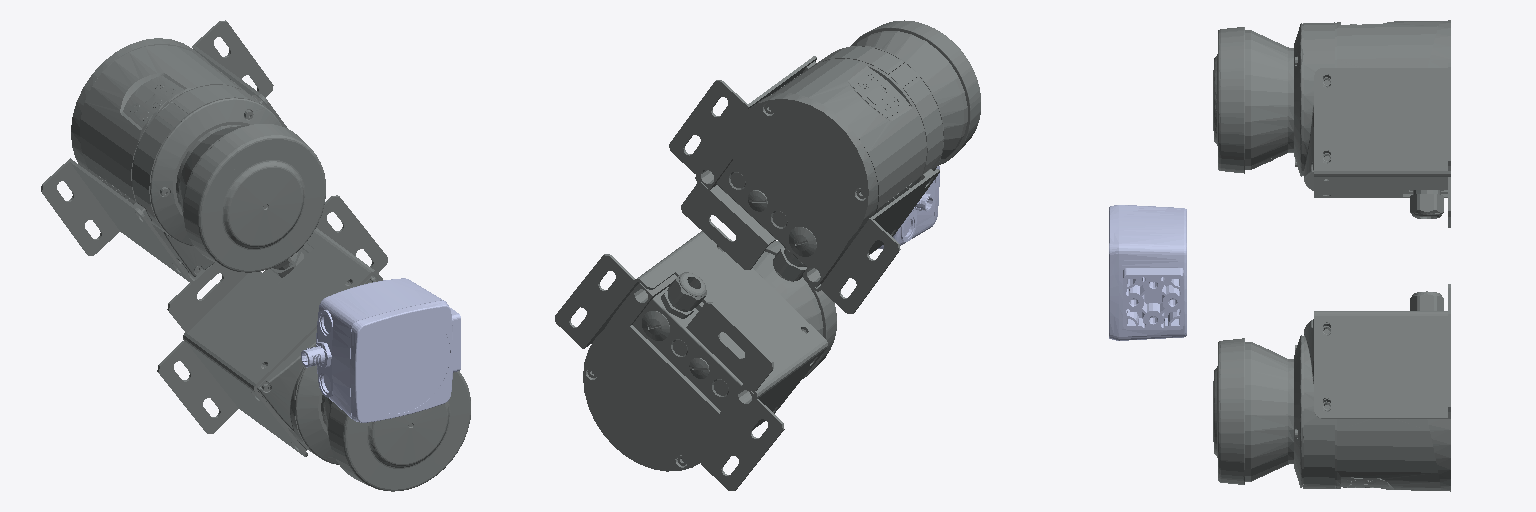
The robot description file, URDF, robot "LunarAgv":
<?xml version="1.0" encoding="utf-8"?>
<!-- This URDF was automatically created by SolidWorks to URDF Exporter! Originally created by [author] ([email redacted]) 
     Commit Version: 1.6.0-4-g7f85cfe  Build Version: 1.6.7995.38578
     For more information, please see http://wiki.ros.org/sw_urdf_exporter -->
<robot
  name="LunarAgv">
  <link
    name="base_link">
    <inertial>
      <origin
        xyz="-0.00015288 0.16922 0.84844"
        rpy="0 0 0" />
      <mass
        value="1127.4" />
      <inertia
        ixx="186.65"
        ixy="-0.071893"
        ixz="0.00075936"
        iyy="177.73"
        iyz="0.034507"
        izz="267.97" />
    </inertial>
    <visual>
      <origin
        xyz="0 0 0"
        rpy="0 0 0" />
      <geometry>
        <mesh
          filename="package://LunarAgv/meshes/base_link.STL" />
      </geometry>
      <material
        name="">
        <color
          rgba="0.77647 0.75686 0.73725 1" />
      </material>
    </visual>
    <collision>
      <origin
        xyz="0 0 0"
        rpy="0 0 0" />
      <geometry>
        <mesh
          filename="package://LunarAgv/meshes/base_link.STL" />
      </geometry>
    </collision>
  </link>



  <link
    name="front_left_wheel_link">
    <inertial>
      <origin
        xyz="-0.486288529907035 0.805369363781165 -0.568713052187755"
        rpy="0 0 0" />
      <mass
        value="1420.1834445863" />
      <inertia
        ixx="951.6948212748"
        ixy="21.3714554780942"
        ixz="-0.98750627442229"
        iyy="810.047713827878"
        iyz="-16.2698367458512"
        izz="1015.9248300136" />
    </inertial>
    <visual>
      <origin
        xyz="0 0 0"
        rpy="0 0 0" />
      <geometry>
        <mesh
          filename="package://LunarAgv/meshes/front_left_wheel_link.STL" />
      </geometry>
      <material
        name="">
        <color
          rgba="1 1 1 1" />
      </material>
    </visual>
    <collision>
      <origin
        xyz="0 0 0"
        rpy="0 0 0" />
      <geometry>
        <mesh
          filename="package://LunarAgv/meshes/front_left_wheel_link.STL" />
      </geometry>
    </collision>
  </link>
  <joint
    name="front_left_wheel_joint"
    type="continuous">
    <origin
      xyz="0.56625 -0.125 -0.762"
      rpy="1.5708 0 1.5708" />
    <parent
      link="base_link" />
    <child
      link="front_left_wheel_link" />
    <axis
      xyz="0 0 1" />
  </joint>


  <link
    name="front_right_wheel_link">
    <inertial>
      <origin
        xyz="0.486288529907022 0.811369363781171 -0.563786947812247"
        rpy="0 0 0" />
      <mass
        value="1420.1834445863" />
      <inertia
        ixx="951.6948212748"
        ixy="-21.3714554780943"
        ixz="-0.98750627442239"
        iyy="810.047713827877"
        iyz="16.2698367458499"
        izz="1015.9248300136" />
    </inertial>
    <visual>
      <origin
        xyz="0 0 0"
        rpy="0 0 0" />
      <geometry>
        <mesh
          filename="package://LunarAgv/meshes/front_right_wheel_link.STL" />
      </geometry>
      <material
        name="">
        <color
          rgba="1 1 1 1" />
      </material>
    </visual>
    <collision>
      <origin
        xyz="0 0 0"
        rpy="0 0 0" />
      <geometry>
        <mesh
          filename="package://LunarAgv/meshes/front_right_wheel_link.STL" />
      </geometry>
    </collision>
  </link>
  <joint
    name="front_right_wheel_joint"
    type="continuous">
    <origin
      xyz="-0.56625 -0.125 -0.768"
      rpy="1.5708 0 -1.5708" />
    <parent
      link="base_link" />
    <child
      link="front_right_wheel_link" />
    <axis
      xyz="0 0 1" />
  </joint>




  <link
    name="back_left_wheel_link">
    <inertial>
      <origin
        xyz="-0.486288529907001 -0.724630636218818 -0.568713052187753"
        rpy="0 0 0" />
      <mass
        value="1420.1834445863" />
      <inertia
        ixx="951.6948212748"
        ixy="21.3714554780943"
        ixz="-0.987506274422062"
        iyy="810.047713827877"
        iyz="-16.2698367458515"
        izz="1015.9248300136" />
    </inertial>
    <visual>
      <origin
        xyz="0 0 0"
        rpy="0 0 0" />
      <geometry>
        <mesh
          filename="package://LunarAgv/meshes/back_left_wheel_link.STL" />
      </geometry>
      <material
        name="">
        <color
          rgba="1 1 1 1" />
      </material>
    </visual>
    <collision>
      <origin
        xyz="0 0 0"
        rpy="0 0 0" />
      <geometry>
        <mesh
          filename="package://LunarAgv/meshes/back_left_wheel_link.STL" />
      </geometry>
    </collision>
  </link>
  <joint
    name="back_left_wheel_joint"
    type="continuous">
    <origin
      xyz="0.56625 -0.125 0.768"
      rpy="1.5708 0 1.5708" />
    <parent
      link="base_link" />
    <child
      link="back_left_wheel_link" />
    <axis
      xyz="0 0 1" />
  </joint>

  
  <link
    name="back_right_wheel_link">
    <inertial>
      <origin
        xyz="0.486288529907021 -0.712682613755943 -0.571335071854233"
        rpy="0 0 0" />
      <mass
        value="1420.1834445863" />
      <inertia
        ixx="951.6948212748"
        ixy="-21.3599051194888"
        ixz="-1.21191220004488"
        iyy="809.728684697972"
        iyz="14.1040778112797"
        izz="1016.24385914351" />
    </inertial>
    <visual>
      <origin
        xyz="0 0 0"
        rpy="0 0 0" />
      <geometry>
        <mesh
          filename="package://LunarAgv/meshes/back_right_wheel_link.STL" />
      </geometry>
      <material
        name="">
        <color
          rgba="1 1 1 1" />
      </material>
    </visual>
    <collision>
      <origin
        xyz="0 0 0"
        rpy="0 0 0" />
      <geometry>
        <mesh
          filename="package://LunarAgv/meshes/back_right_wheel_link.STL" />
      </geometry>
    </collision>
  </link>
  <joint
    name="back_right_wheel_joint"
    type="continuous">
    <origin
      xyz="-0.56628 -0.125 0.76201"
      rpy="1.5603 0 -1.5708" />
    <parent
      link="base_link" />
    <child
      link="back_right_wheel_link" />
    <axis
      xyz="0 0 1" />
  </joint>
  <link
    name="front_lidar_link">
    <inertial>
      <origin
        xyz="-0.798515021205427 -1.04550202779012 0.242075134496693"
        rpy="0 0 0" />
      <mass
        value="9.49883099957734" />
      <inertia
        ixx="0.0179386353992628"
        ixy="0.000278287807681088"
        ixz="-0.000125674026995603"
        iyy="0.018007426390983"
        iyz="-8.78195059417083E-05"
        izz="0.0132377001479147" />
    </inertial>
    <visual>
      <origin
        xyz="0 0 0"
        rpy="0 0 0" />
      <geometry>
        <mesh
          filename="package://LunarAgv/meshes/front_lidar_link.STL" />
      </geometry>
      <material
        name="">
        <color
          rgba="0.529411764705882 0.549019607843137 0.549019607843137 1" />
      </material>
    </visual>
    <collision>
      <origin
        xyz="0 0 0"
        rpy="0 0 0" />
      <geometry>
        <mesh
          filename="package://LunarAgv/meshes/front_lidar_link.STL" />
      </geometry>
    </collision>
  </link>
  <joint
    name="front_lidar_joint"
    type="fixed">
    <origin
      xyz="0.042822 -0.033127 -0.077997"
      rpy="1.5708 0.088182 0" />
    <parent
      link="base_link" />
    <child
      link="front_lidar_link" />
    <axis
      xyz="0 0 0" />
  </joint>
  <link
    name="back_lidar_link">
    <inertial>
      <origin
        xyz="-0.798515018850648 -1.04550202621823 0.242075132431624"
        rpy="0 0 0" />
      <mass
        value="9.49883135601028" />
      <inertia
        ixx="0.0179386354025894"
        ixy="0.000278287590566171"
        ixz="-0.000125674029820003"
        iyy="0.0180074270140846"
        iyz="-8.78194817377976E-05"
        izz="0.0132377007863435" />
    </inertial>
    <visual>
      <origin
        xyz="0 0 0"
        rpy="0 0 0" />
      <geometry>
        <mesh
          filename="package://LunarAgv/meshes/back_lidar_link.STL" />
      </geometry>
      <material
        name="">
        <color
          rgba="0.529411764705882 0.549019607843137 0.549019607843137 1" />
      </material>
    </visual>
    <collision>
      <origin
        xyz="0 0 0"
        rpy="0 0 0" />
      <geometry>
        <mesh
          filename="package://LunarAgv/meshes/back_lidar_link.STL" />
      </geometry>
    </collision>
  </link>
  <joint
    name="back_lidar_joint"
    type="fixed">
    <origin
      xyz="-0.059817 -0.033127 0.093822"
      rpy="-1.5708 -0.10576 3.1416" />
    <parent
      link="base_link" />
    <child
      link="back_lidar_link" />
    <axis
      xyz="0 0 0" />
  </joint>
  <link
    name="code_camera_link">
    <inertial>
      <origin
        xyz="-0.0013803730667627 3.56653121648981E-07 -0.0187241189967535"
        rpy="0 0 0" />
      <mass
        value="0.241766943453364" />
      <inertia
        ixx="0.000139044768283738"
        ixy="-3.4831582113527E-09"
        ixz="-7.95697315906295E-07"
        iyy="0.000153218163720174"
        iyz="1.2072362600808E-09"
        izz="0.00019399978647261" />
    </inertial>
    <visual>
      <origin
        xyz="0 0 0"
        rpy="0 0 0" />
      <geometry>
        <mesh
          filename="package://LunarAgv/meshes/code_camera_link.STL" />
      </geometry>
      <material
        name="">
        <color
          rgba="0.792156862745098 0.819607843137255 0.933333333333333 1" />
      </material>
    </visual>
    <collision>
      <origin
        xyz="0 0 0"
        rpy="0 0 0" />
      <geometry>
        <mesh
          filename="package://LunarAgv/meshes/code_camera_link.STL" />
      </geometry>
    </collision>
  </link>
  <joint
    name="code_camera_joint"
    type="fixed">
    <origin
      xyz="0 -0.11168 0"
      rpy="1.5708 -1.5708 0" />
    <parent
      link="base_link" />
    <child
      link="code_camera_link" />
    <axis
      xyz="0 0 0" />
  </joint>
</robot>

--- Facts derived from the render (not from the file) ---
3 views of the same robot in one strip: view 1: azimuth 30°, elevation 25°; view 2: azimuth 150°, elevation 25°; view 3: azimuth 270°, elevation 25° (orthographic).
Robot: LunarAgv — 8 links, 7 joints (4 continuous, 3 fixed); root link base_link; default pose: every joint at zero.
Links seen in each view (by area): view 1: back_lidar_link, front_lidar_link, code_camera_link; view 2: back_lidar_link, front_lidar_link, code_camera_link; view 3: front_lidar_link, back_lidar_link, code_camera_link.
Boxes of the visible links, x1,y1,x2,y2 form: back_lidar_link: (41, 20, 325, 283); front_lidar_link: (157, 195, 470, 491); code_camera_link: (301, 278, 460, 422); back_lidar_link: (669, 20, 980, 313); front_lidar_link: (555, 231, 836, 490); code_camera_link: (878, 166, 939, 248); front_lidar_link: (1213, 284, 1450, 491); back_lidar_link: (1213, 20, 1450, 227); code_camera_link: (1109, 205, 1186, 340).
Size in the robot's own frame: 0.245 by 0.2183 by 0.2771 metres.
Meshes: 8 distinct files referenced, 3 mesh visuals loaded (3 binary STL); not drawn: 3 (reference not matched to a file when rendering), 2 (file found but could not be loaded).